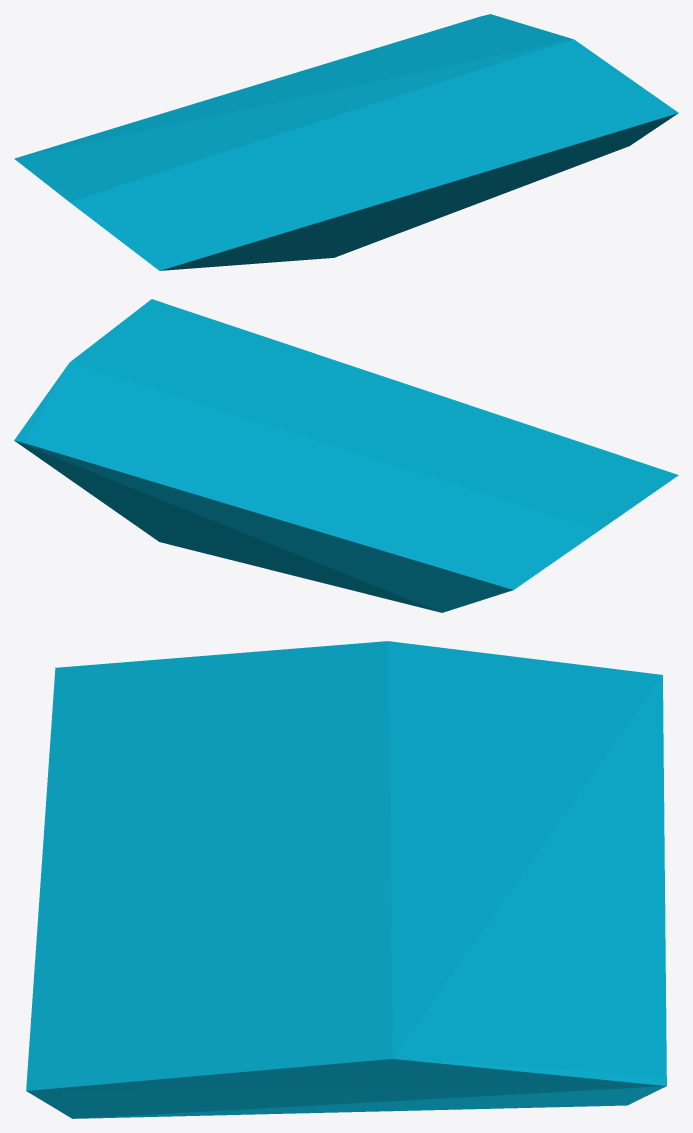
The model's file is arm-L1_convex_piece_010.obj.
The picture shows the model from 3 angles, top to bottom: view 1: azimuth 30°, elevation 25°; view 2: azimuth 150°, elevation 25°; view 3: azimuth 270°, elevation 25°; orthographic projection. The views are drawn at different scales.
Size of the model in its own units: 0.0316 by 0.00585 by 0.0169.
